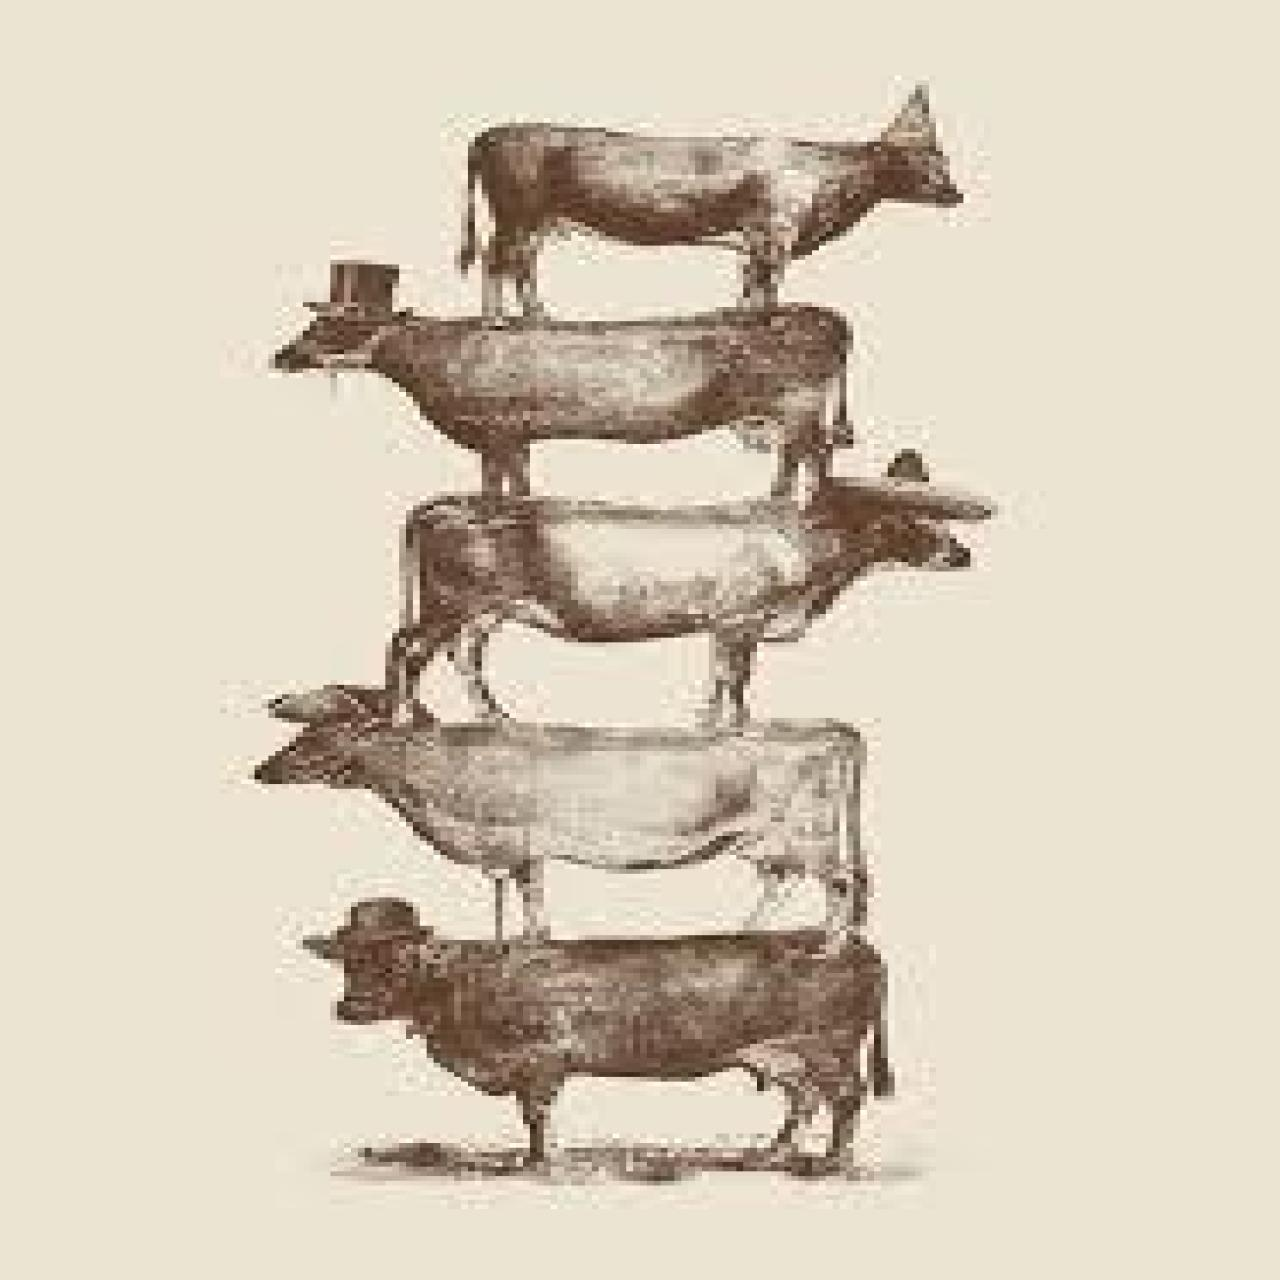cow: (248, 715, 881, 952), (386, 486, 990, 733), (313, 921, 891, 1171), (272, 281, 857, 517), (471, 114, 967, 316)
